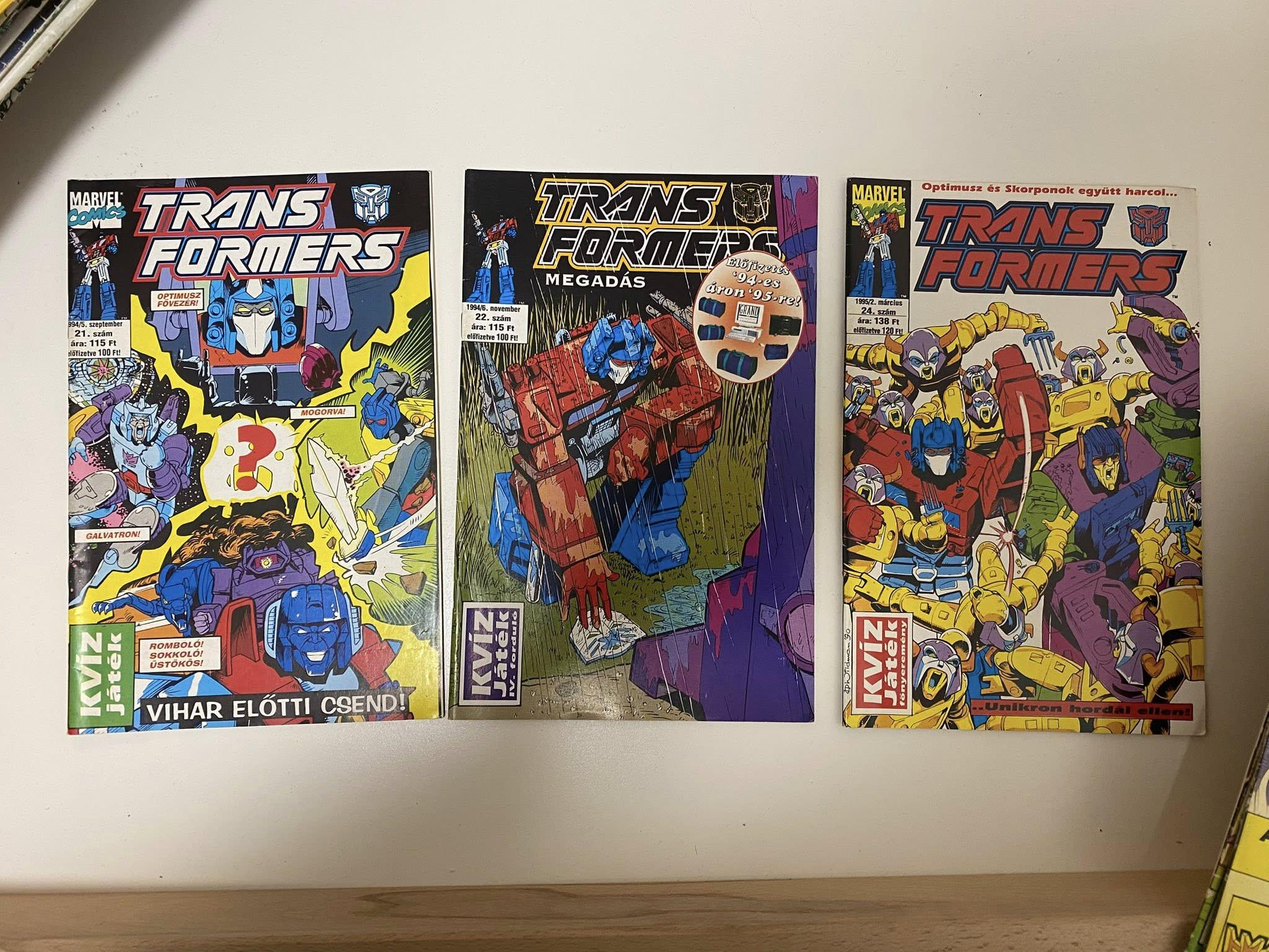comic: (59, 171, 441, 732), (450, 170, 819, 721), (843, 179, 1203, 733)
